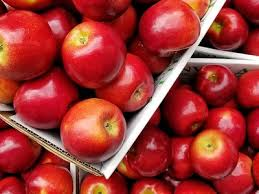apple: (10, 72, 78, 126), (1, 11, 56, 74), (136, 3, 201, 54), (62, 99, 119, 156), (62, 25, 123, 78), (95, 57, 154, 107), (117, 124, 170, 177), (193, 130, 238, 178), (1, 127, 41, 174), (203, 107, 246, 149), (209, 9, 249, 53), (167, 86, 207, 129), (200, 63, 235, 103), (25, 165, 74, 193)
